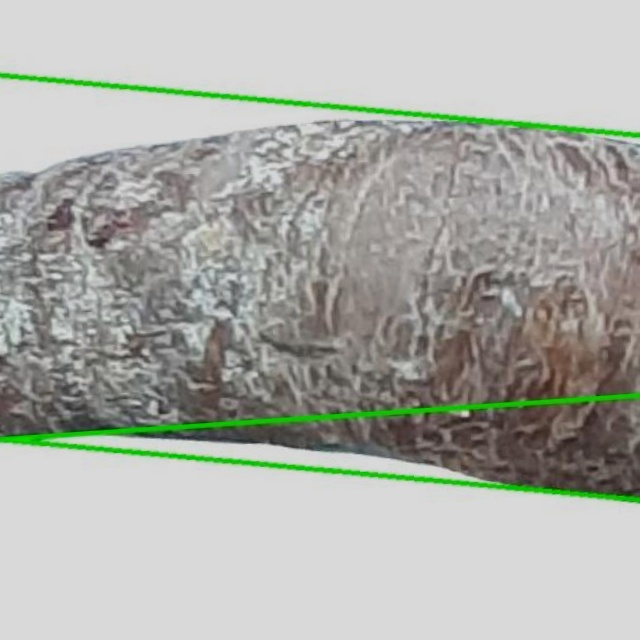Eczema: (0, 75, 639, 500), (0, 395, 639, 639)
